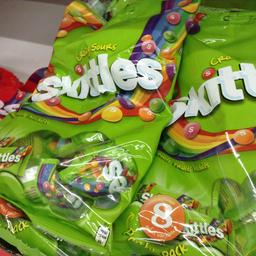candy: (0, 100, 152, 242), (30, 4, 182, 118), (110, 138, 252, 255), (156, 10, 250, 137)
